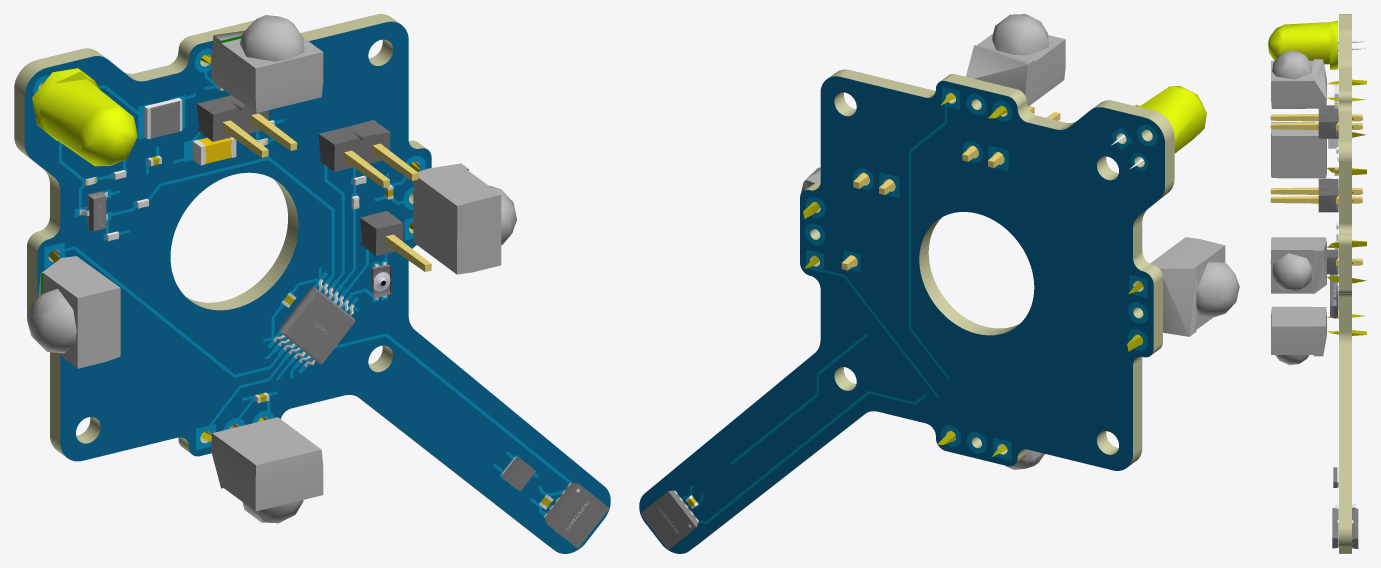
3 views of the same model, side by side, from view 1: azimuth 30°, elevation 25°; view 2: azimuth 150°, elevation 25°; view 3: azimuth 270°, elevation 25° (orthographic). The views are drawn at different scales.
Parts seen in each view (by area): view 1: v6; view 2: v6; view 3: v6.
Boxes of the visible parts, x1=… form: v6: x1=14, y1=14, x2=610, y2=553; v6: x1=639, y1=14, x2=1239, y2=553; v6: x1=1268, y1=14, x2=1366, y2=553.
Size of the model in its own units: 54.67 by 54.67 by 12.31.
